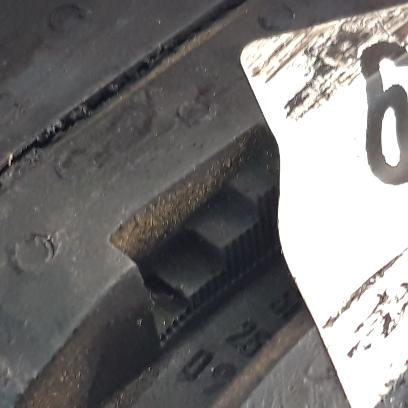temoin:100: (107, 113, 292, 353)
